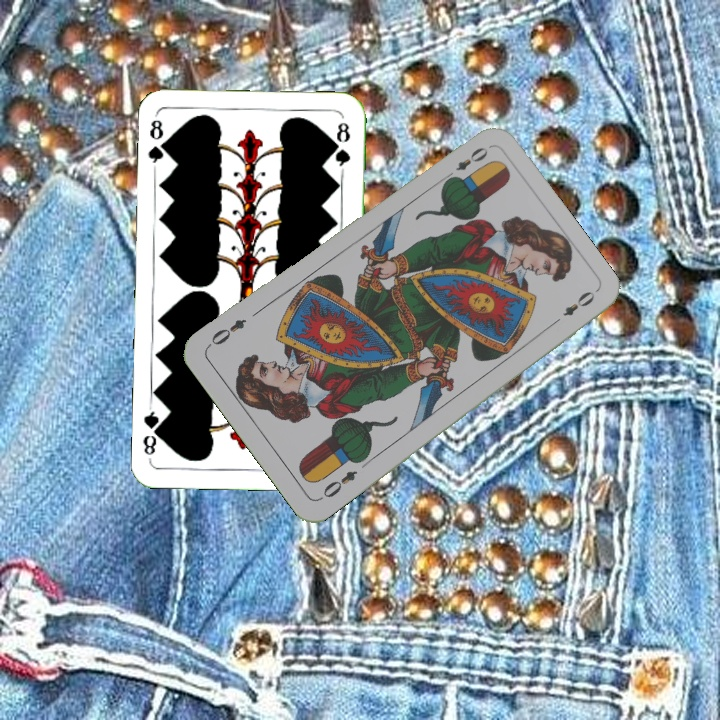EO: (440, 142, 491, 183), (315, 466, 360, 503)
G8: (144, 113, 172, 172)
